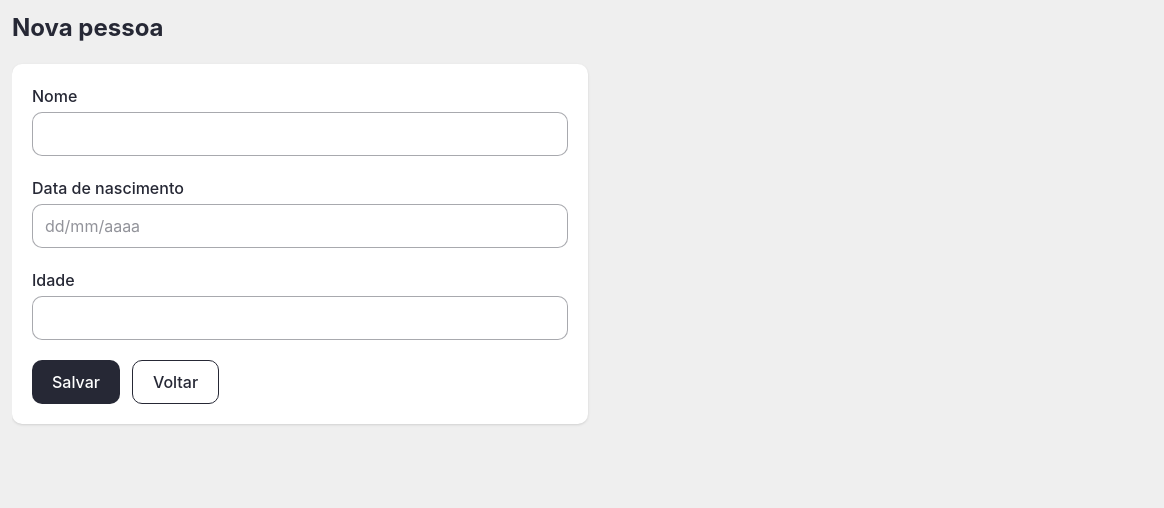
Scenario: PessoaNewPageComponent › should stay on the page and warn when the browser refuses to save
Type "Carla" into the field labelled "Nome" at coordinates (300, 134), box top-left (32, 112), bottom-right (568, 156)
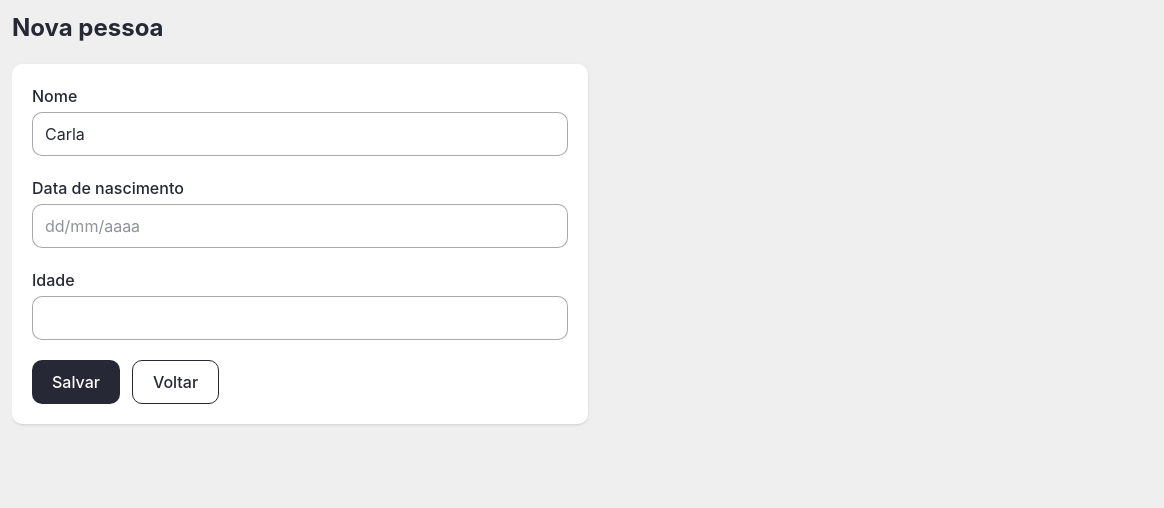
Type "10101990" into the field labelled "Data de nascimento" at coordinates (300, 226), box top-left (32, 204), bottom-right (568, 248)
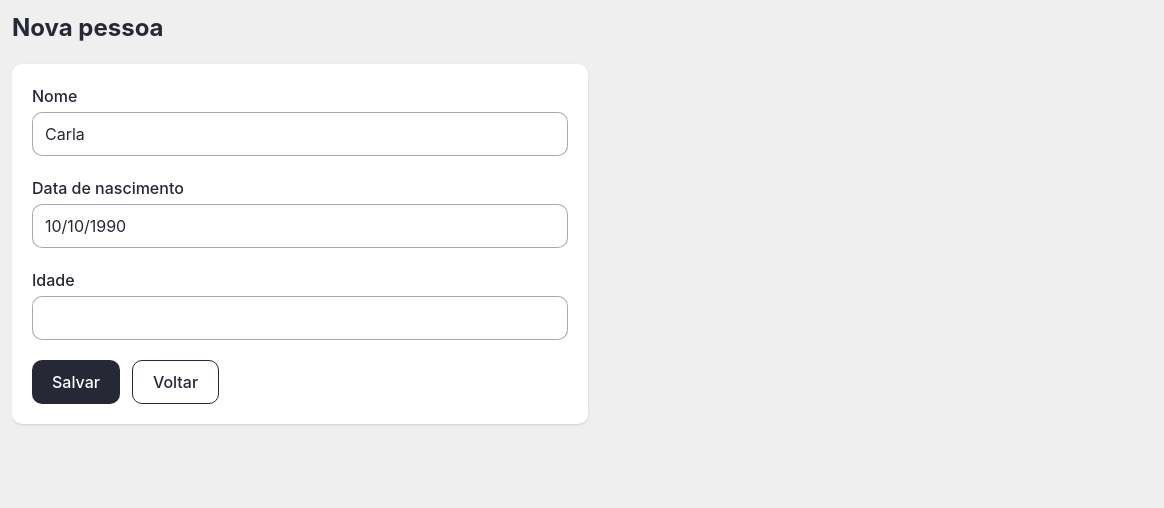
Type "35" into the number field labelled "Idade" at coordinates (300, 318), box top-left (32, 296), bottom-right (568, 340)
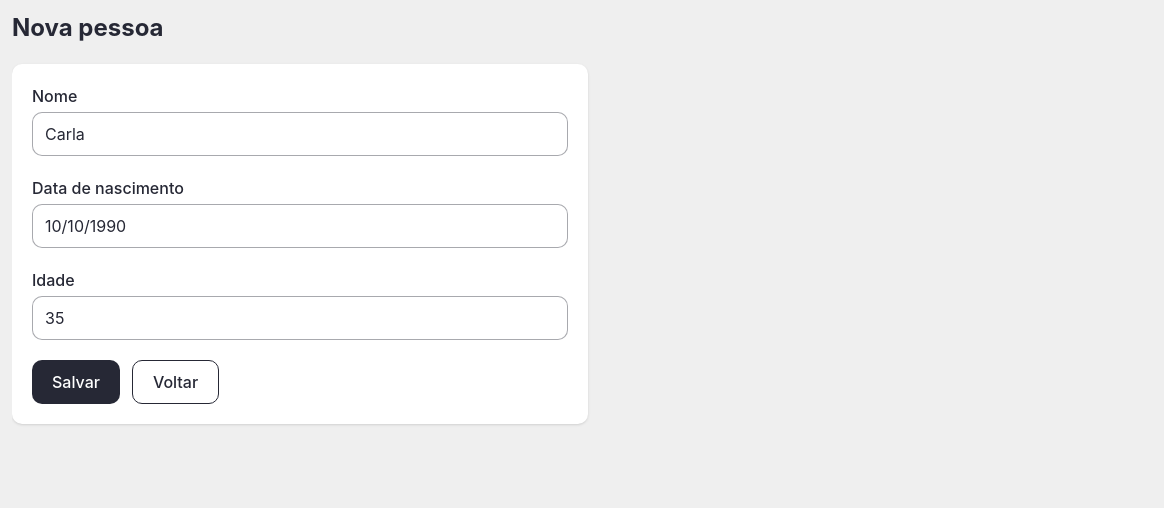
Submit the form, box top-left (32, 84), bottom-right (568, 404)
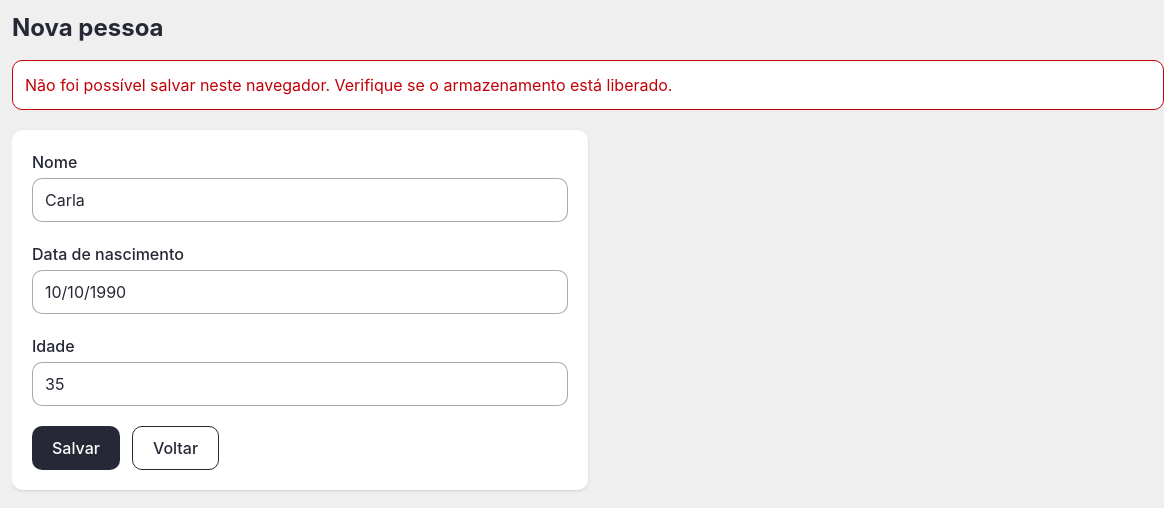
Result: the message shows "Não foi possível salvar" at top-left (25, 75), bottom-right (672, 95)
